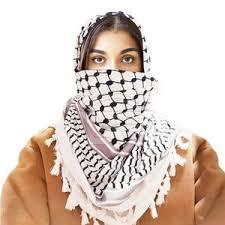scarf-kerchief: (44, 0, 176, 181)
